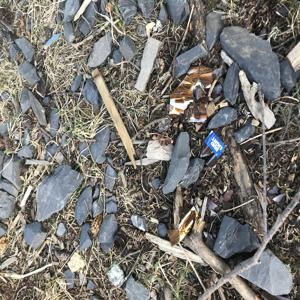plastic: (172, 206, 208, 248), (204, 130, 226, 163), (61, 249, 84, 273)
